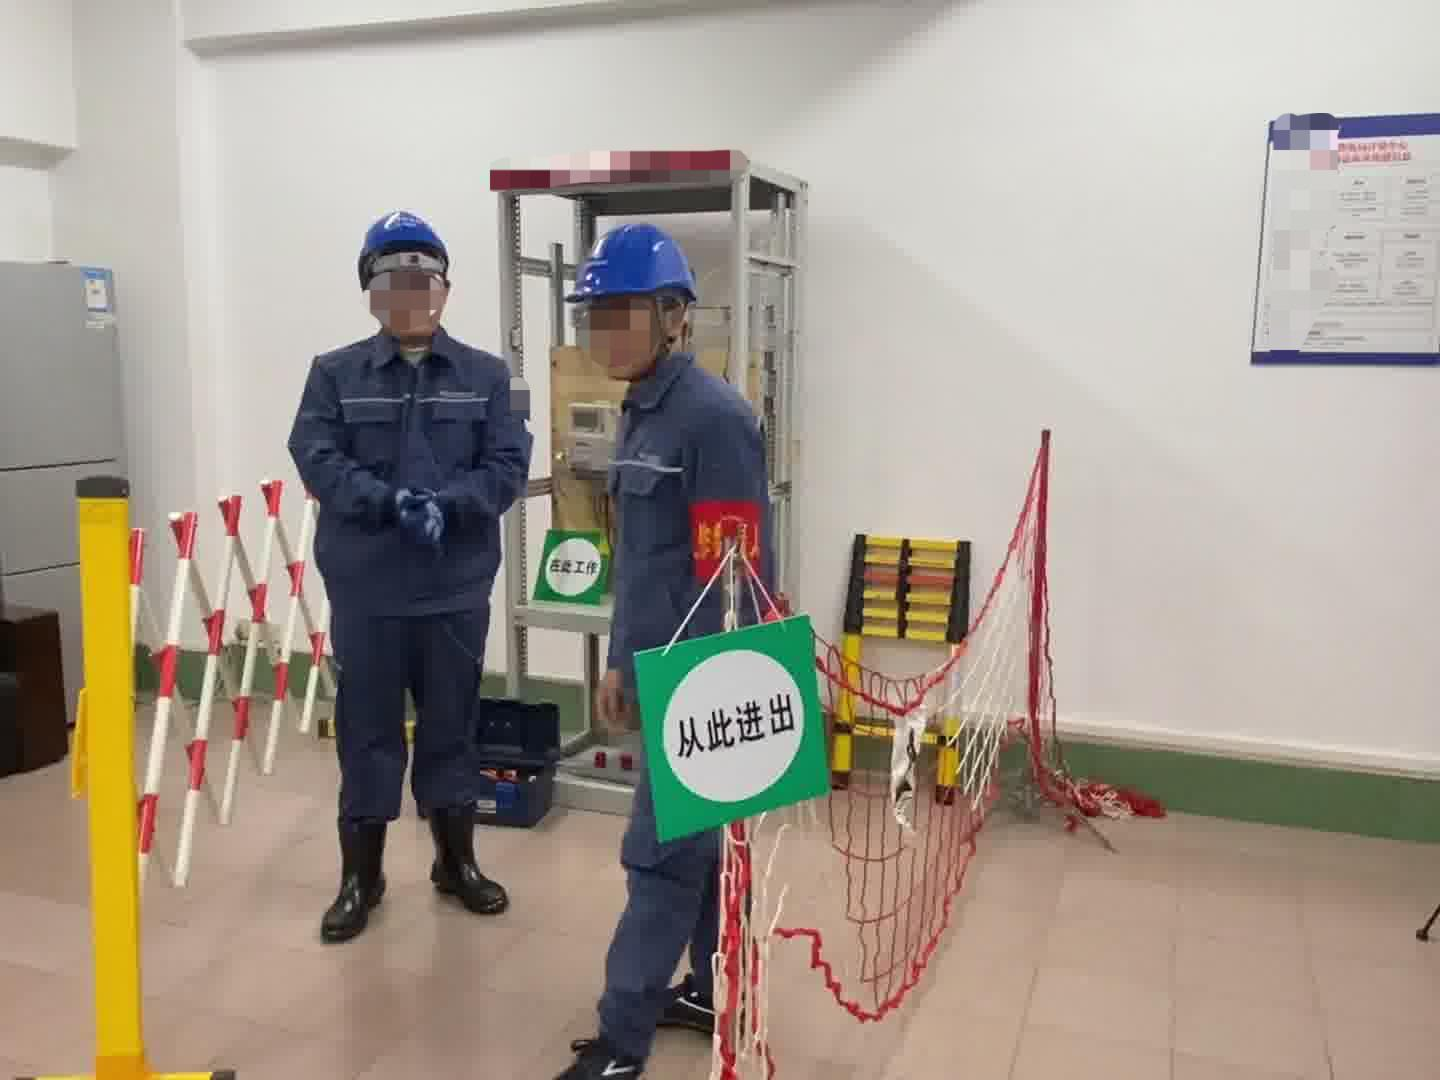halt: (571, 222, 704, 381)
inear: (651, 295, 694, 352)
